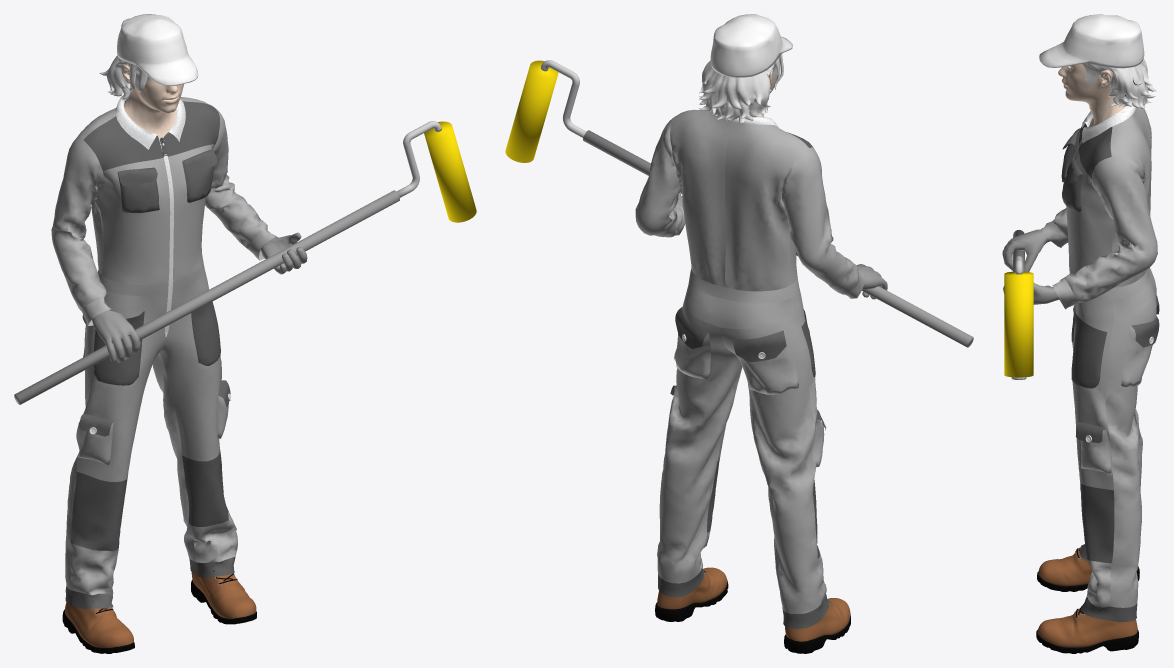
File: painter.dae
3 views of the same model, side by side, from view 1: azimuth 30°, elevation 25°; view 2: azimuth 150°, elevation 25°; view 3: azimuth 270°, elevation 25° (orthographic).
Parts seen in each view (by area): view 1: group_0, group_9, group_11, group_1, group_7, group_1.001, male_genericMesh, group_1.002, Obj_Avatar_Shape.014, group_1.006, Obj_Avatar_Shape.029, group_5.001 (+12 smaller); view 2: group_0, group_11, group_10, group_7, group_9, group_0.001, Obj_Avatar_Shape.014, Obj_Avatar_Shape.029, group_0.004, group_1.009, group_8, Obj_Avatar_Shape.015 (+2 smaller); view 3: group_0, group_11, group_7, Obj_Avatar_Shape.029, group_1.001, male_genericMesh, group_10, group_1.004, Obj_Avatar_Shape.014, group_0.004, group_5.001, group_1.006 (+9 smaller).
Part boxes in pixels (x1,y1,x2,y2): group_0: (51,97,277,595); group_9: (14,190,399,404); group_11: (117,14,198,85); group_1: (71,472,127,551); group_7: (424,121,476,222); group_1.001: (182,447,228,526); male_genericMesh: (121,64,183,137); group_1.002: (83,116,163,171); Obj_Avatar_Shape.014: (65,602,133,647); group_1.006: (164,101,219,156); Obj_Avatar_Shape.029: (191,572,256,618); group_5.001: (92,310,140,362); group_0: (635,109,864,614); group_11: (710,14,792,77); group_10: (699,54,783,123); group_7: (505,60,558,162); group_9: (583,130,973,347); group_0.001: (732,330,798,394); Obj_Avatar_Shape.014: (785,598,850,641); Obj_Avatar_Shape.029: (657,567,727,609); group_0.004: (673,333,710,379); group_1.009: (732,330,786,361); group_8: (540,60,586,137); Obj_Avatar_Shape.015: (655,580,728,621); group_0: (1041,107,1157,607); group_11: (1039,14,1144,68); group_7: (1004,271,1033,377); Obj_Avatar_Shape.029: (1037,608,1137,647); group_1.001: (1080,483,1114,563); male_genericMesh: (1058,64,1126,126); group_10: (1082,58,1156,109); group_1.004: (1071,304,1107,388); Obj_Avatar_Shape.014: (1038,547,1138,586); group_0.004: (1121,317,1156,386); group_5.001: (1002,229,1050,271); group_1.006: (1078,127,1112,179).
Bounding box in the file's own units: 1.44 × 0.428 × 1.8.
